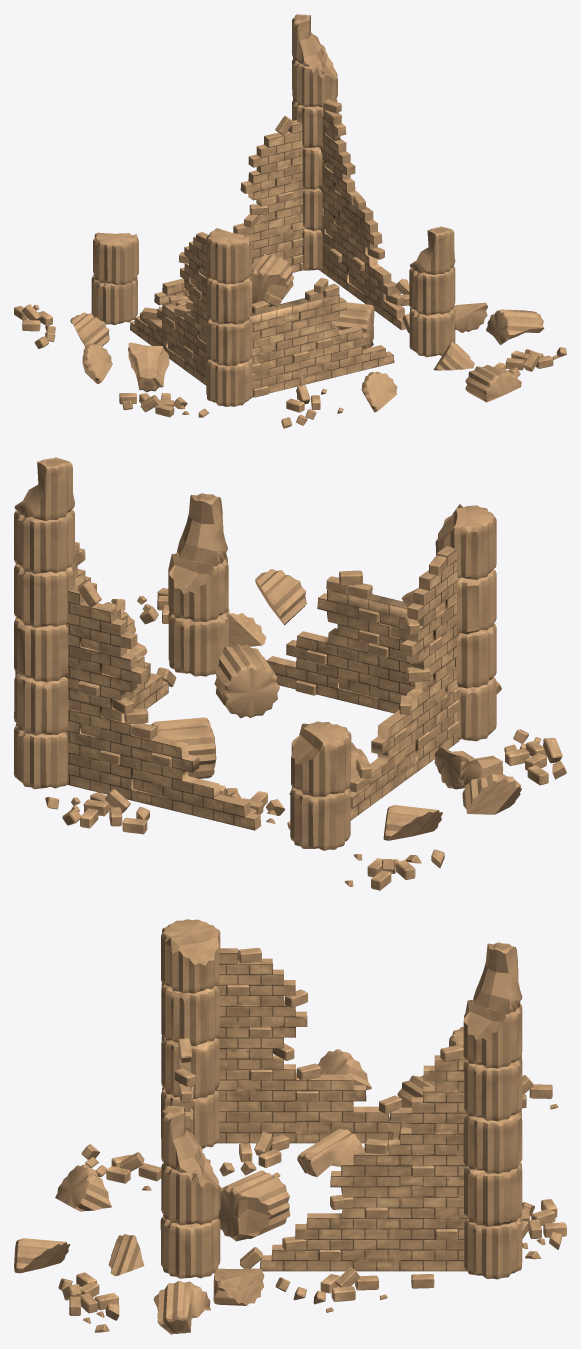
Rendered from sf_pack_room.glb.
3 renders of one model, top to bottom at view 1: azimuth 30°, elevation 25°; view 2: azimuth 150°, elevation 25°; view 3: azimuth 270°, elevation 25°, orthographic. The views are drawn at different scales.
Visible parts, largest first — view 1: sf_pack_room; view 2: sf_pack_room; view 3: sf_pack_room.
Part boxes in pixels (x1,y1,x2,y2): sf_pack_room: [14, 14, 566, 428]; sf_pack_room: [14, 457, 566, 890]; sf_pack_room: [14, 919, 566, 1334].
Size of the model in its own units: 10.23 by 6.16 by 9.51.
Materials: 2 (2 with a texture image).
